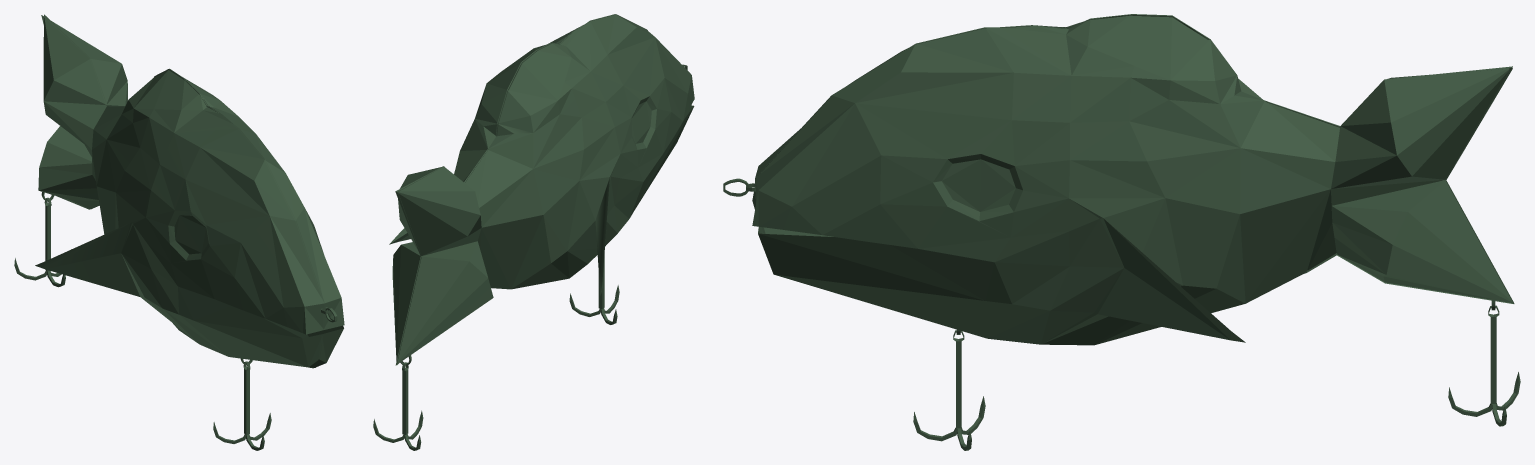
The model's file is Fishing_Bait3.fbx.
3 views of the same model, side by side, from view 1: azimuth 30°, elevation 25°; view 2: azimuth 150°, elevation 25°; view 3: azimuth 270°, elevation 25° (orthographic). The views are drawn at different scales.
Parts seen in each view (by area): view 1: fish; view 2: fish; view 3: fish.
Part boxes in pixels (x1,y1,x2,y2): fish: [14, 14, 344, 450]; fish: [373, 14, 694, 450]; fish: [723, 14, 1520, 450].
Size of the model in its own units: 43.39 by 61.48 by 104.
